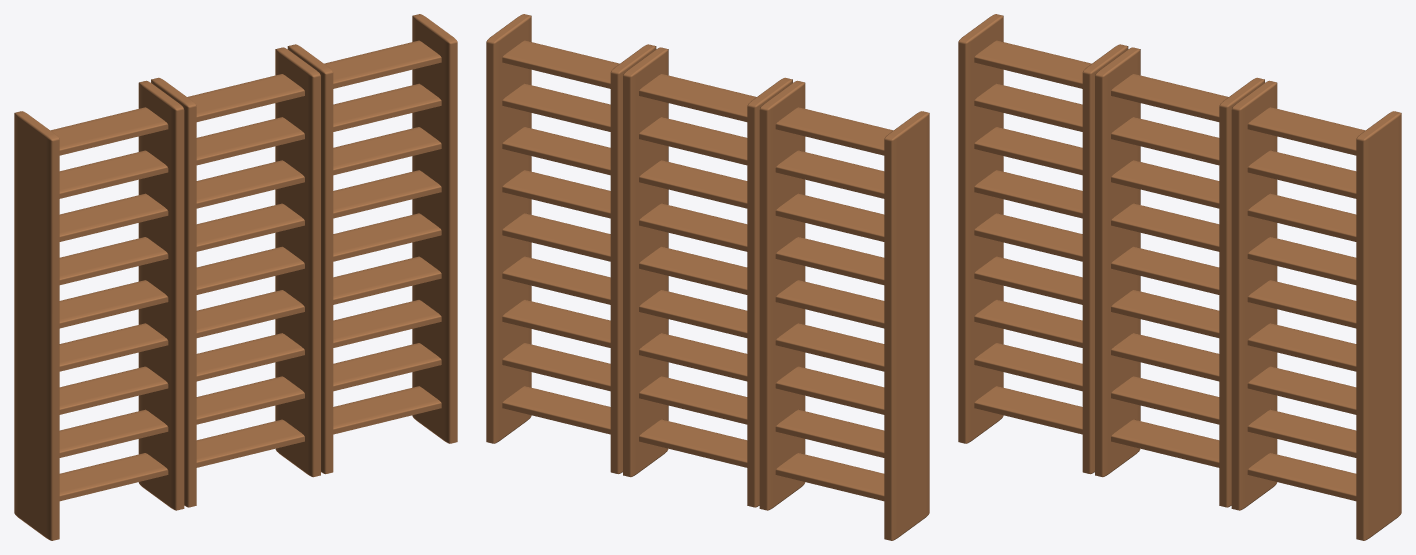
Rendered from wp-paravent-ajoure.glb.
3 renders of one model, left to right at view 1: azimuth 30°, elevation 25°; view 2: azimuth 150°, elevation 25°; view 3: azimuth 330°, elevation 25°, orthographic.
Visible parts, largest first — view 1: wp-paravent-ajoure; view 2: wp-paravent-ajoure; view 3: wp-paravent-ajoure.
Part boxes in pixels (x1,y1,x2,y2): wp-paravent-ajoure: (14,14,457,540); wp-paravent-ajoure: (486,14,929,540); wp-paravent-ajoure: (958,14,1401,540).
Bounding box in the file's own units: 1.8 × 1.7 × 0.3.
